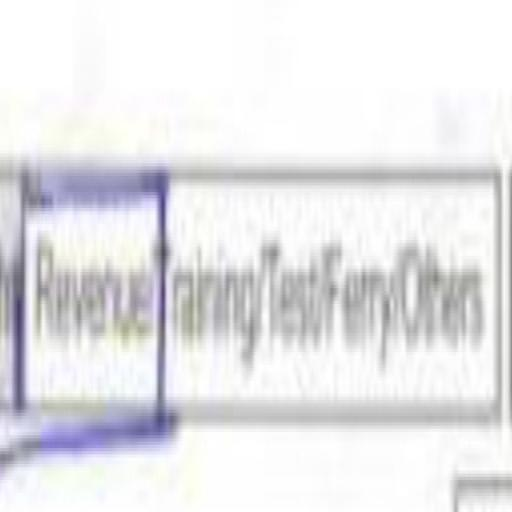check: (19, 118, 167, 512)
